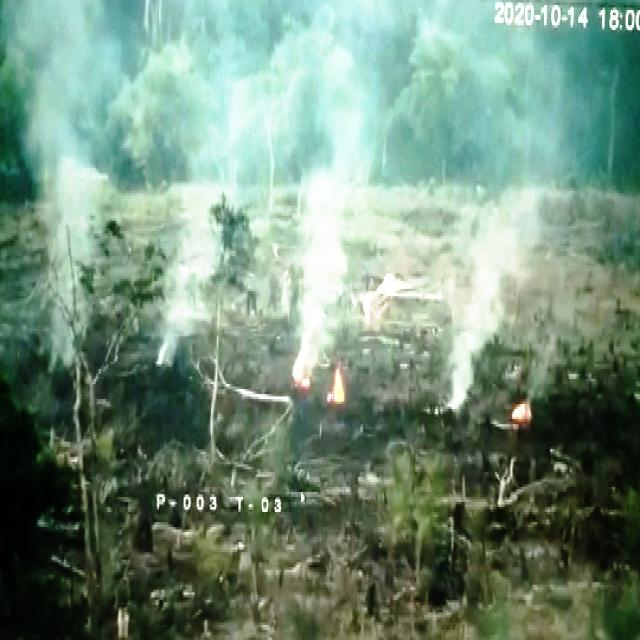asap: (366, 460, 640, 640), (283, 127, 368, 403)
